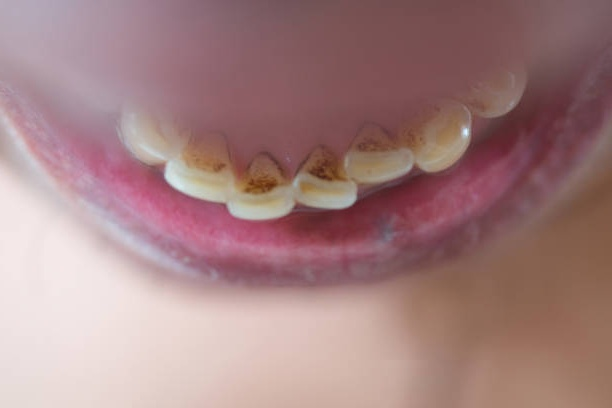Tooth Discoloration: (174, 99, 474, 197)
